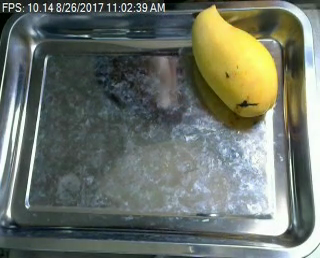Mango: (178, 3, 286, 116)
